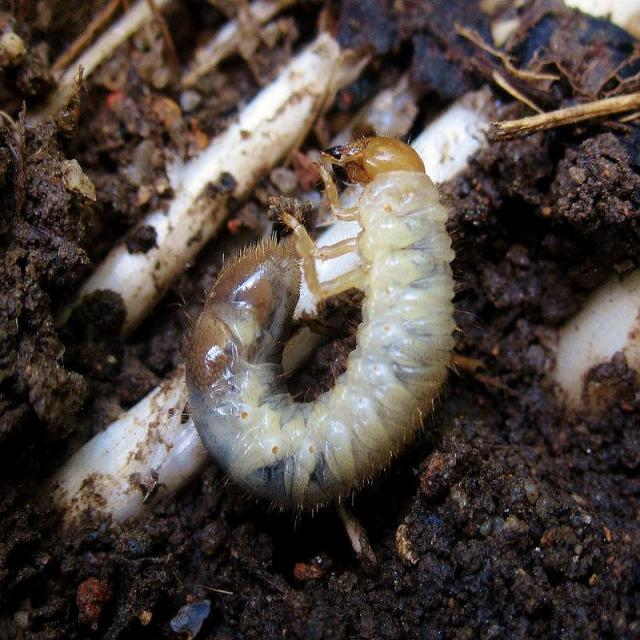Grub-Adult-: (161, 121, 476, 537)
